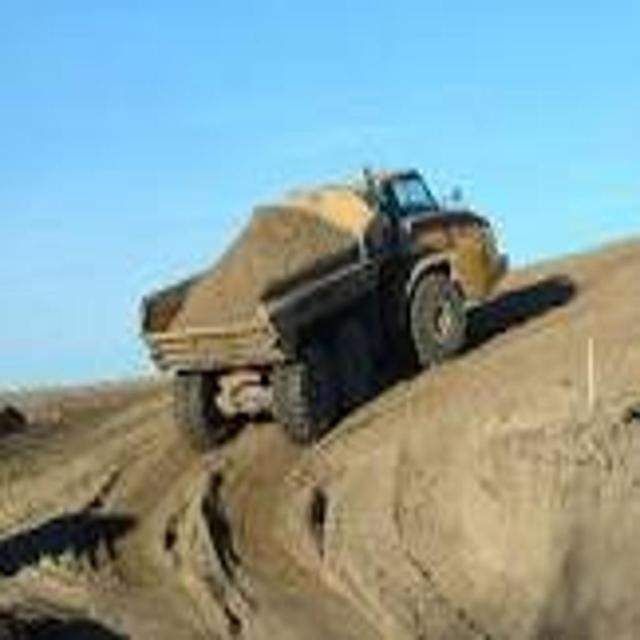dump_truck: (141, 156, 513, 449)
